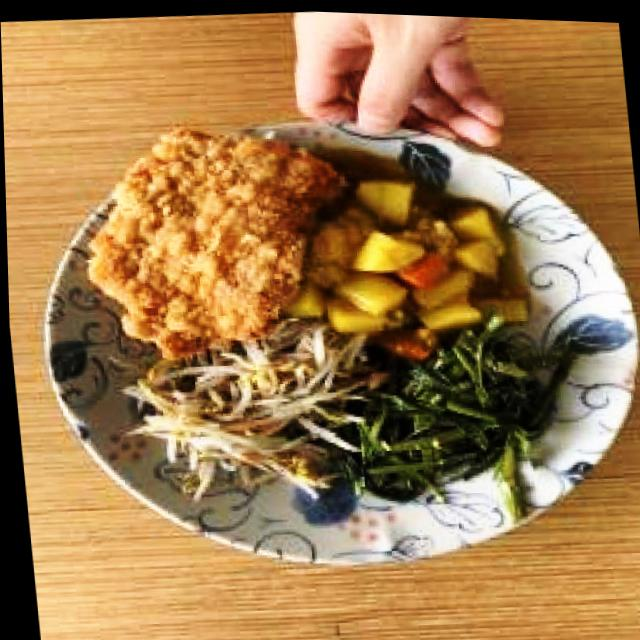curry: (280, 167, 515, 345)
fried_chicken: (73, 114, 358, 369)
mung_bean_sprouts: (130, 326, 377, 512)
water_spinach: (346, 314, 594, 513)
